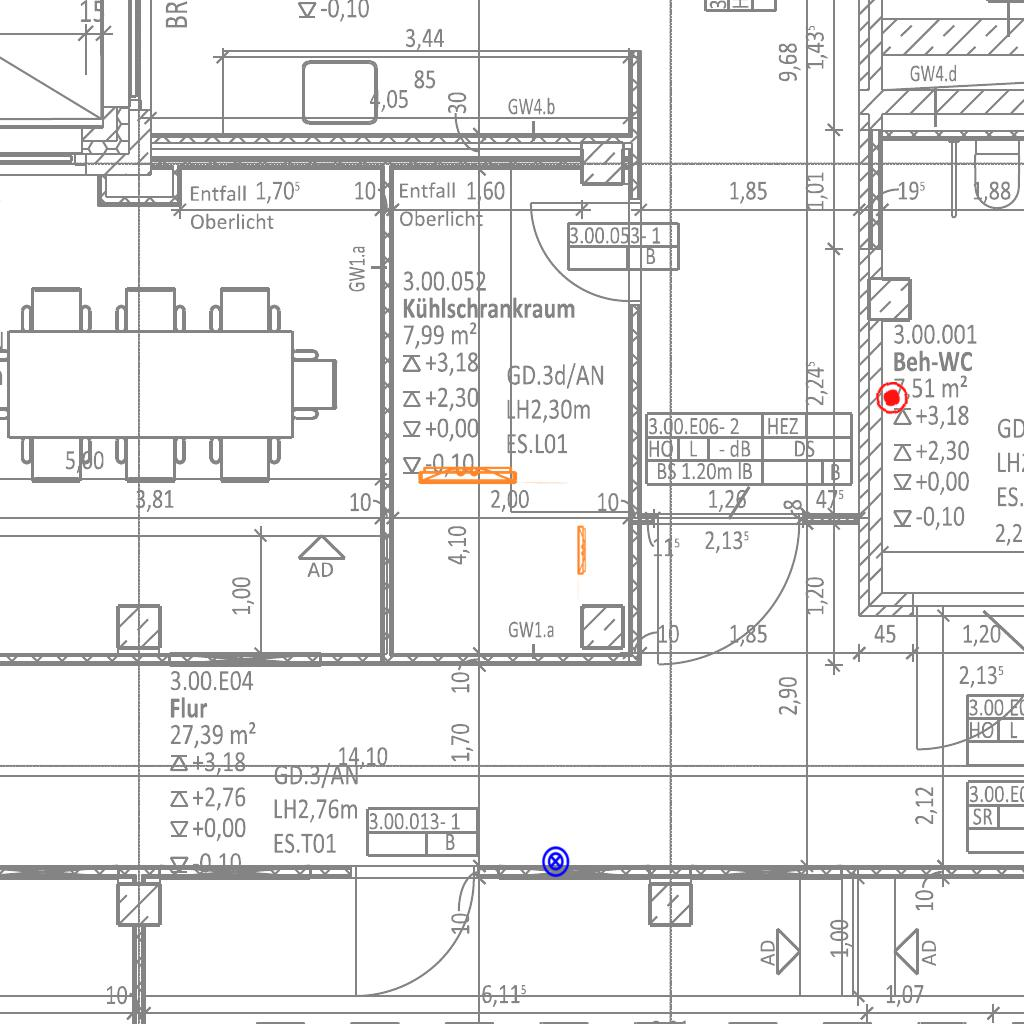Sicherheitsleuchte_Wandeinbau: (413, 462, 572, 487), (576, 523, 588, 602)
Taster: (873, 380, 910, 417)
Taster_beleuchtet: (539, 845, 572, 878)
